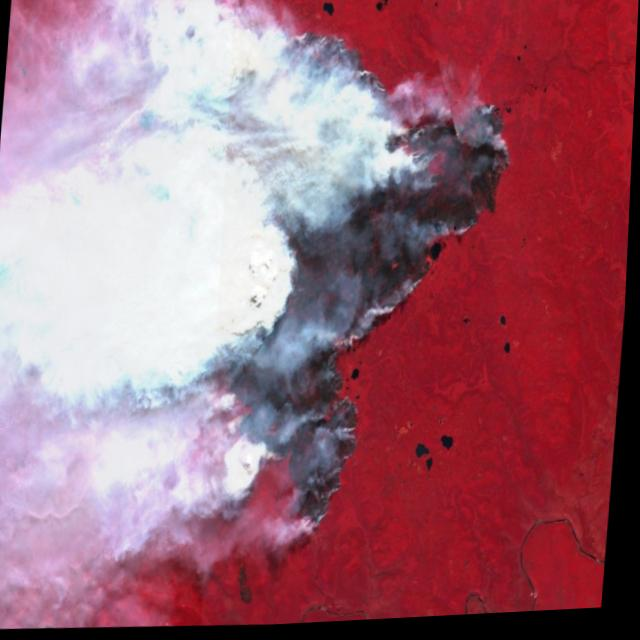fire: (137, 9, 524, 552)
